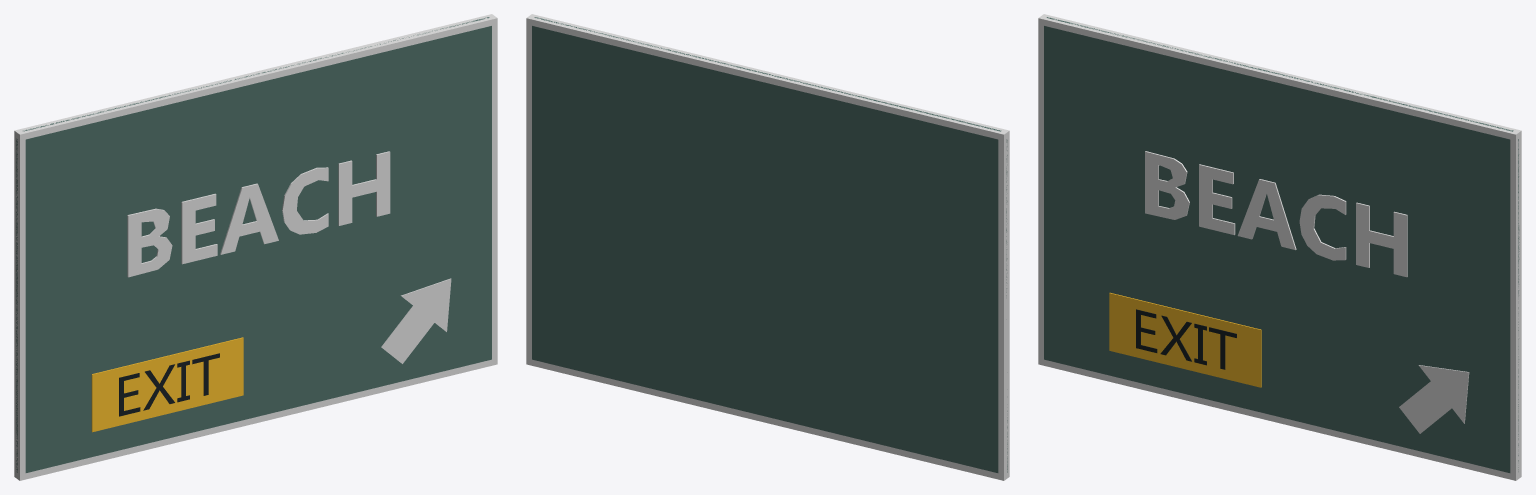
Rendered from SM_FloorProps_RoadSign_29.fbx.
The picture shows the model from 3 angles, left to right: view 1: azimuth 30°, elevation 25°; view 2: azimuth 150°, elevation 25°; view 3: azimuth 330°, elevation 25°; orthographic projection.
Visible parts, largest first — view 1: SM_FloorProps_RoadSign_29; view 2: SM_FloorProps_RoadSign_29; view 3: SM_FloorProps_RoadSign_29.
Part boxes in pixels (left/top/right/bottom): SM_FloorProps_RoadSign_29: left=14, top=14, right=497, bottom=480; SM_FloorProps_RoadSign_29: left=526, top=14, right=1009, bottom=480; SM_FloorProps_RoadSign_29: left=1038, top=14, right=1521, bottom=480.
Size of the model in its own units: 2.33 by 1.61 by 0.0552.
